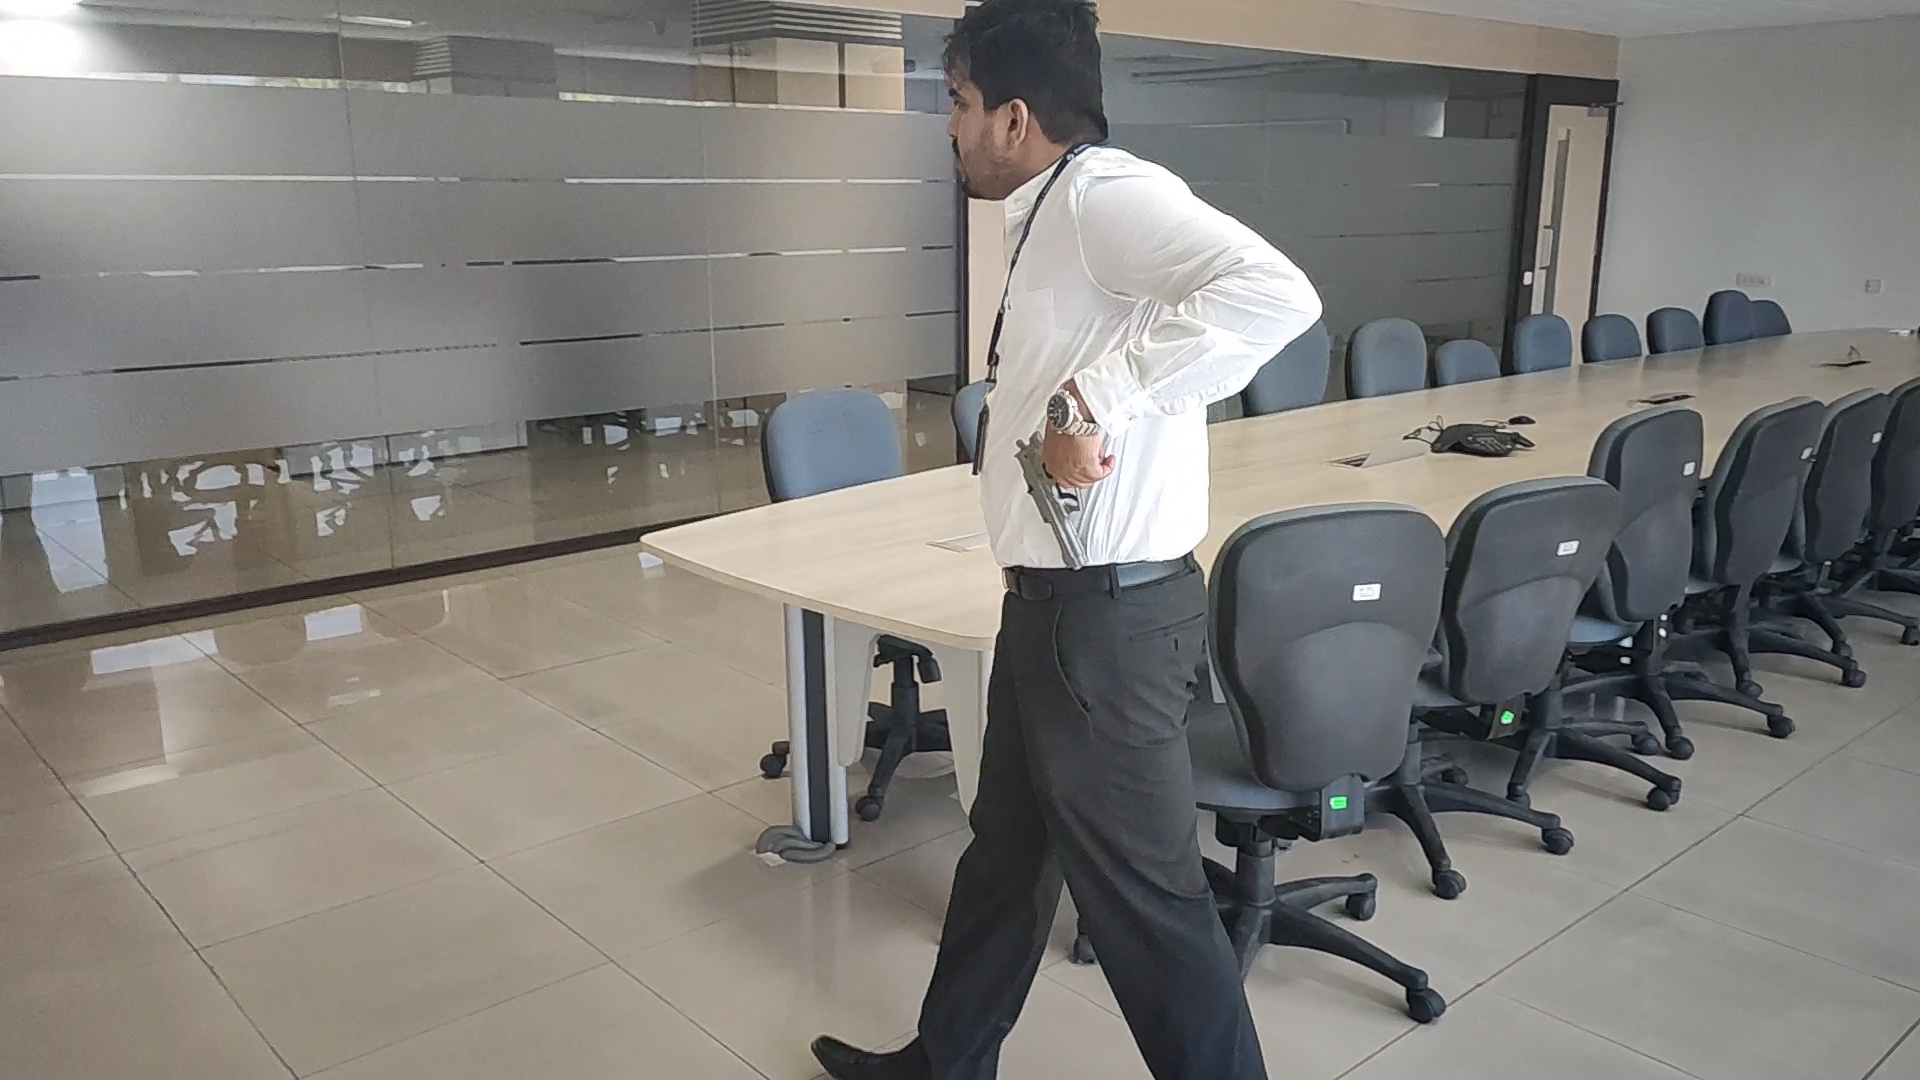gun: (1013, 435, 1091, 572)
